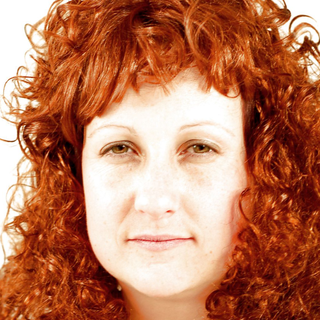eye: (173, 132, 225, 164), (93, 138, 147, 163)
